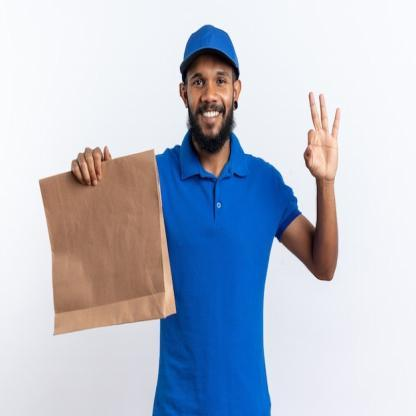ok: (303, 89, 343, 187)
